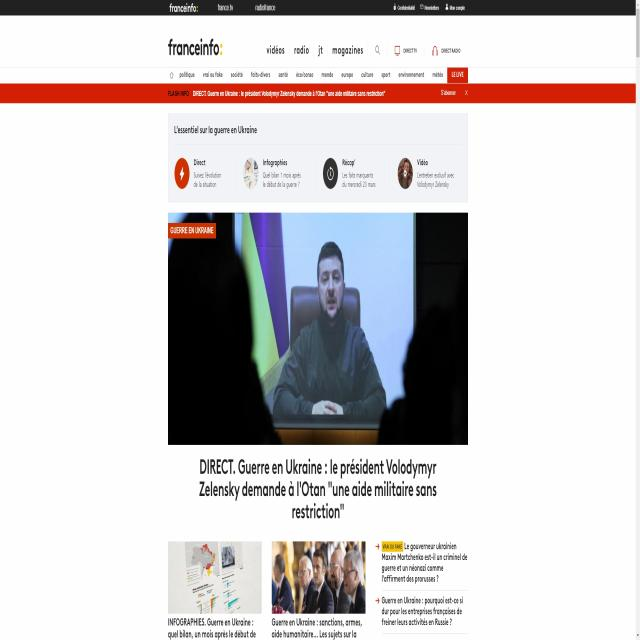tab-bar: (167, 66, 467, 82), (258, 39, 464, 62)
